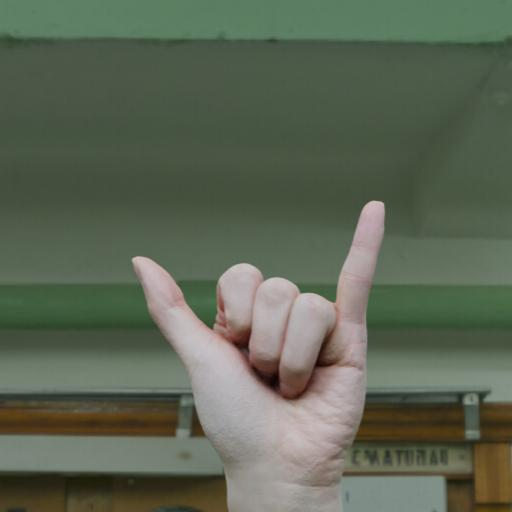Y: (128, 186, 400, 512)
